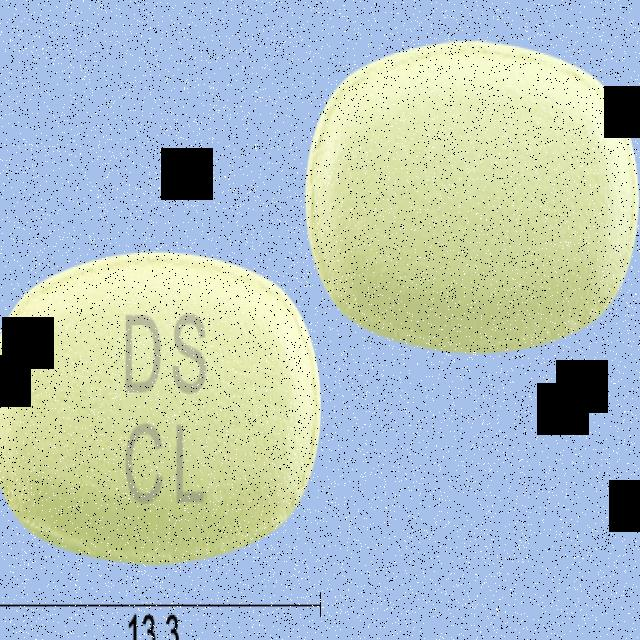Heracin: (0, 246, 321, 564)
